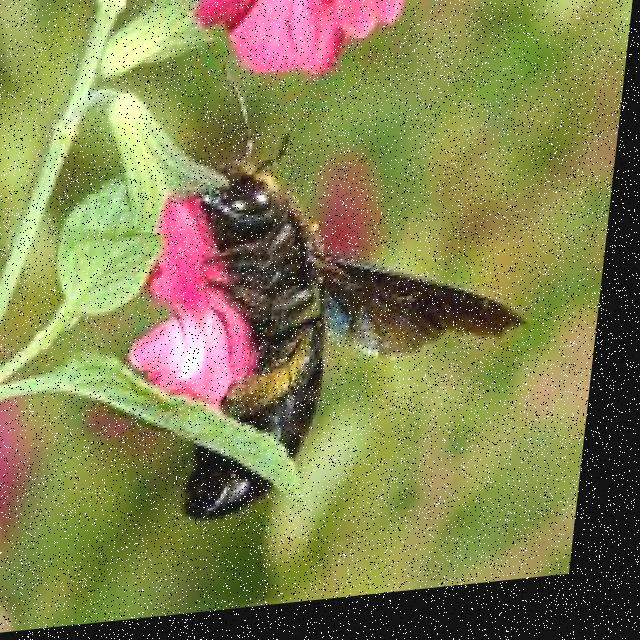Xylocopa: (138, 75, 569, 541)
